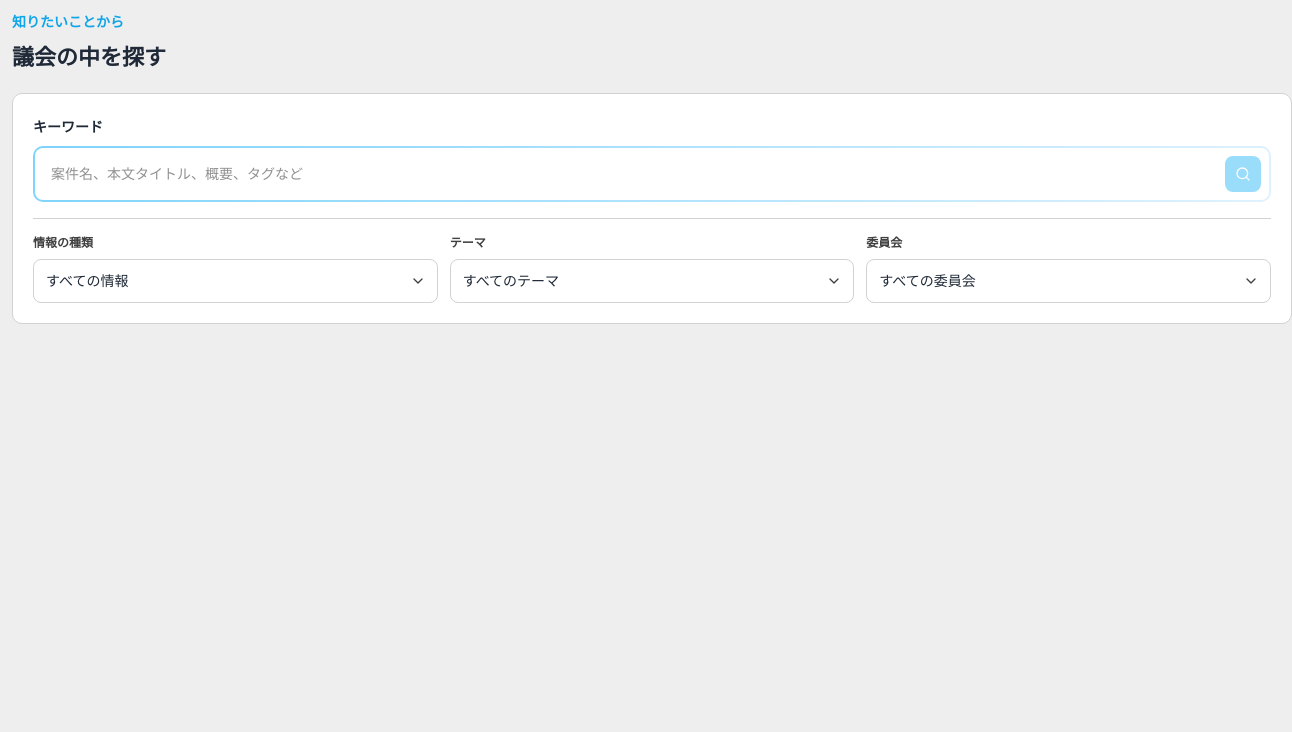
CouncilSearchSection › 入力中は検索せず、Enterで初めてキーワード検索する
Step 1. Type "学校" into the search field labelled "キーワード" → (652, 174), box [35,148,1269,200]
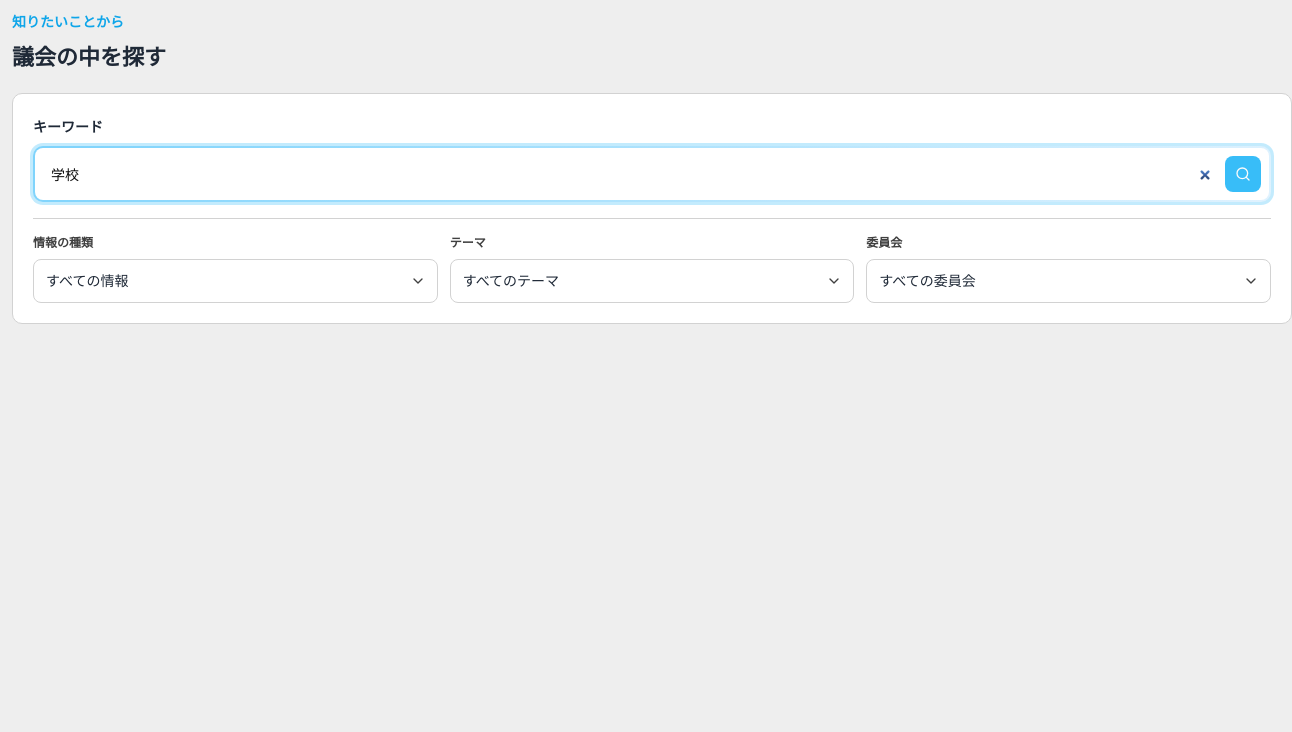
Expected: the text "検索結果" is not shown
Step 2. Press Enter
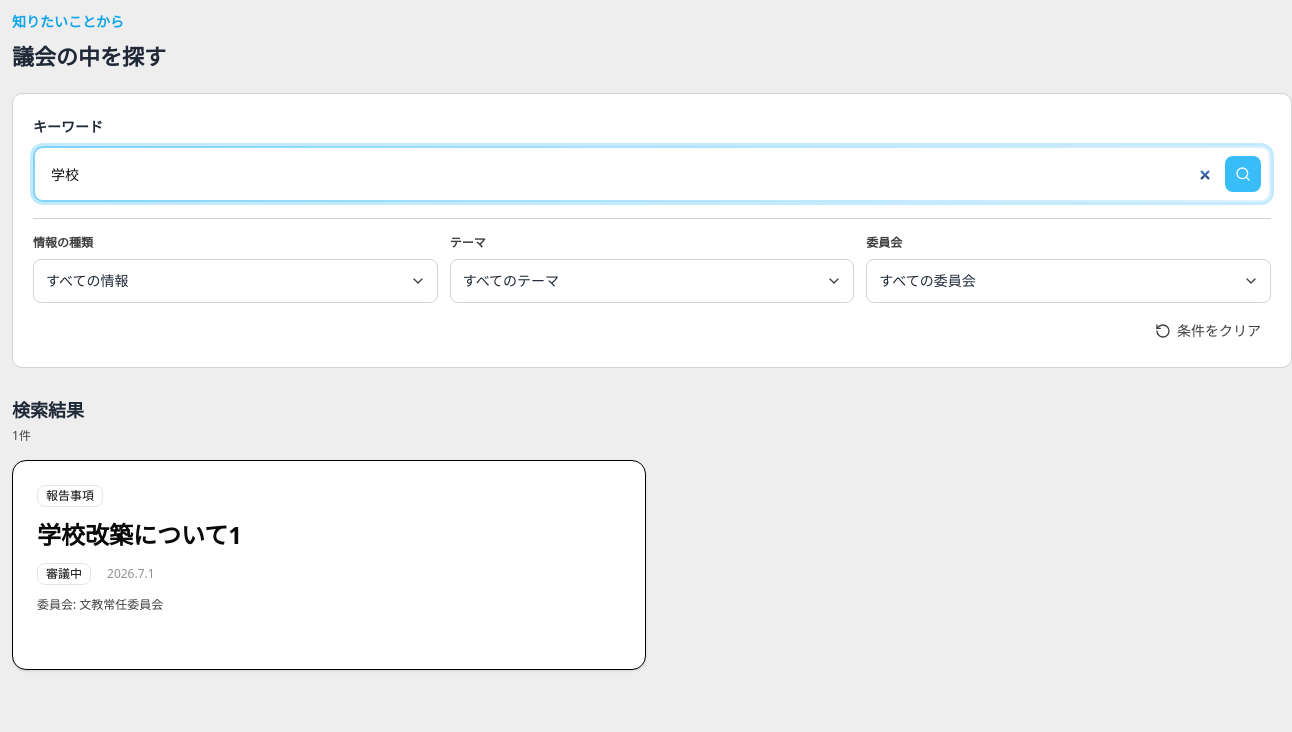
Expected: the text "学校改築について1" is shown, [37,518,242,550]
Expected: the text "1件" is shown, [12,426,31,444]
